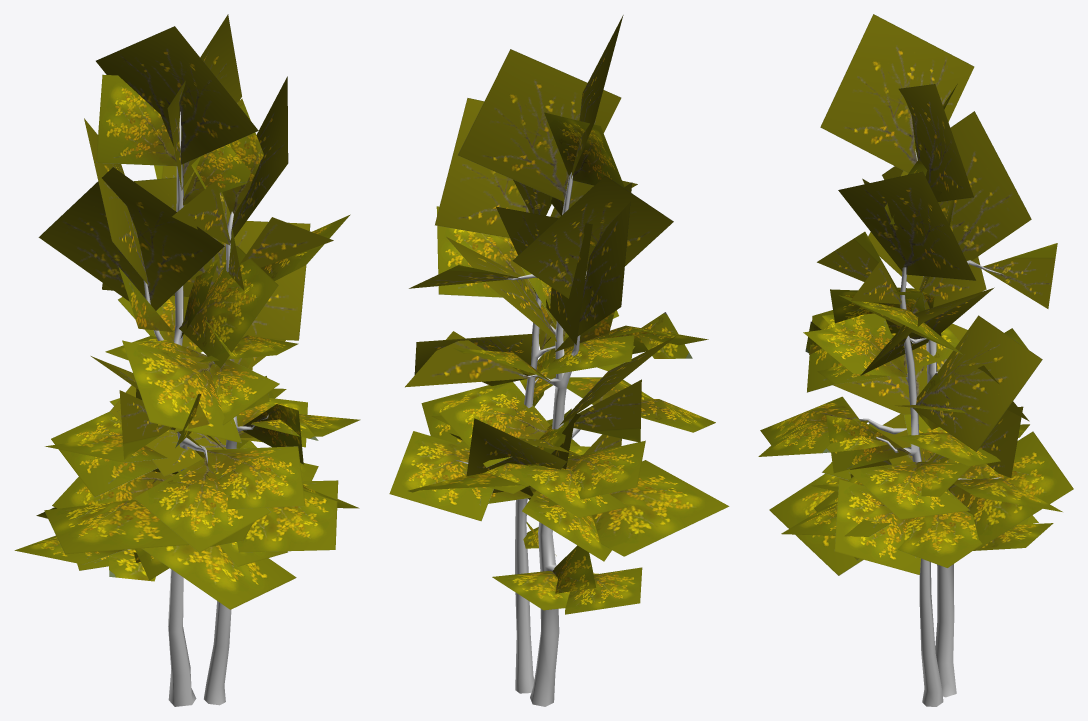
Rendered from JiaYeSiWai1_ShuHuang_3.FBX.
The picture shows the model from 3 angles, left to right: view 1: azimuth 30°, elevation 25°; view 2: azimuth 150°, elevation 25°; view 3: azimuth 270°, elevation 25°; orthographic projection. The views are drawn at different scales.
Visible parts, largest first — view 1: JiaYeSiWai1_ShuHuang_3a, JiaYeSiWai1_ShuHuang_3b; view 2: JiaYeSiWai1_ShuHuang_3a, JiaYeSiWai1_ShuHuang_3b; view 3: JiaYeSiWai1_ShuHuang_3a, JiaYeSiWai1_ShuHuang_3b.
Boxes of the visible parts, x1,y1,x2,y2 form: JiaYeSiWai1_ShuHuang_3a: (14, 14, 360, 609); JiaYeSiWai1_ShuHuang_3b: (127, 111, 268, 706); JiaYeSiWai1_ShuHuang_3a: (389, 15, 729, 614); JiaYeSiWai1_ShuHuang_3b: (456, 172, 586, 706); JiaYeSiWai1_ShuHuang_3a: (758, 14, 1073, 575); JiaYeSiWai1_ShuHuang_3b: (858, 149, 1003, 706).
Bounding box in the file's own units: 711 × 1559 × 679.
